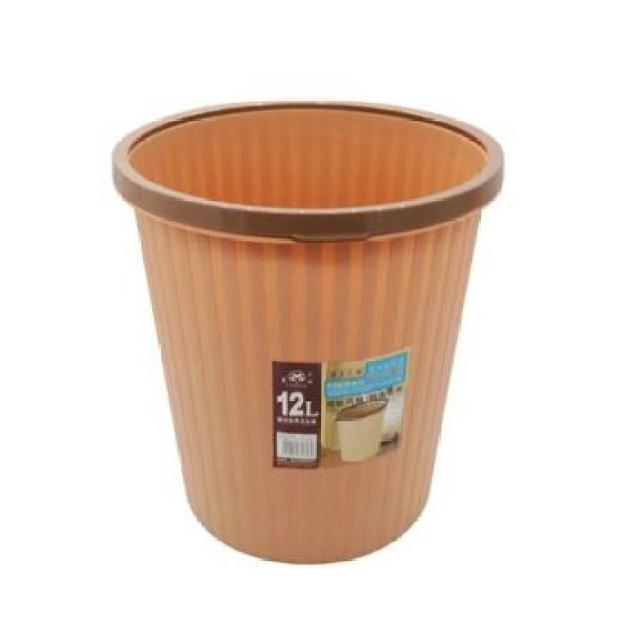dustbin: (108, 94, 510, 570)
